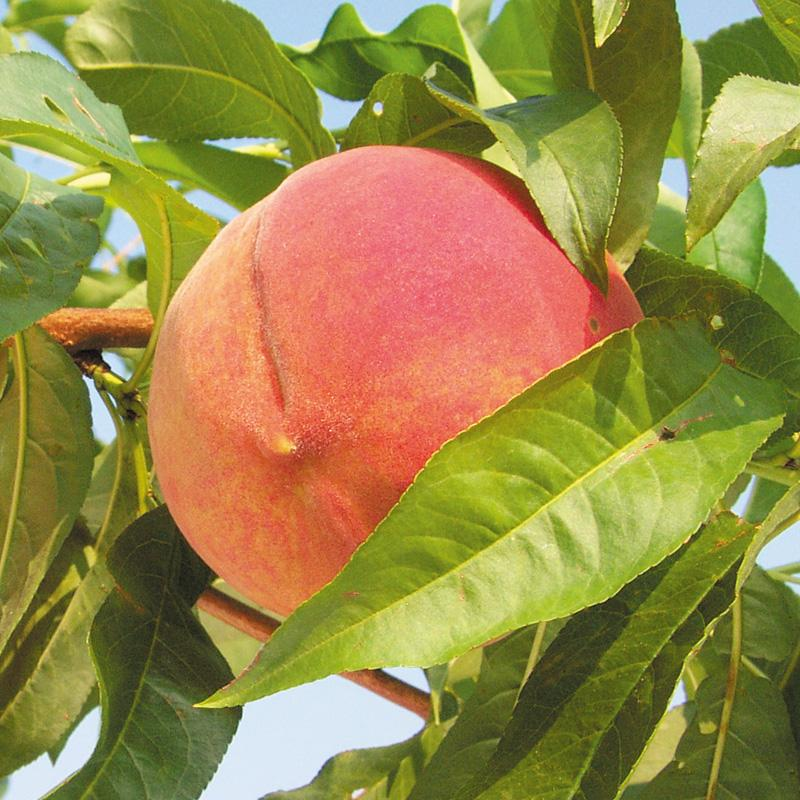Peach leaf: (198, 328, 640, 714), (36, 488, 247, 800), (69, 1, 340, 176), (416, 67, 620, 296), (683, 70, 799, 244)
